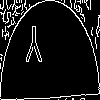Y: (25, 25, 43, 73)
